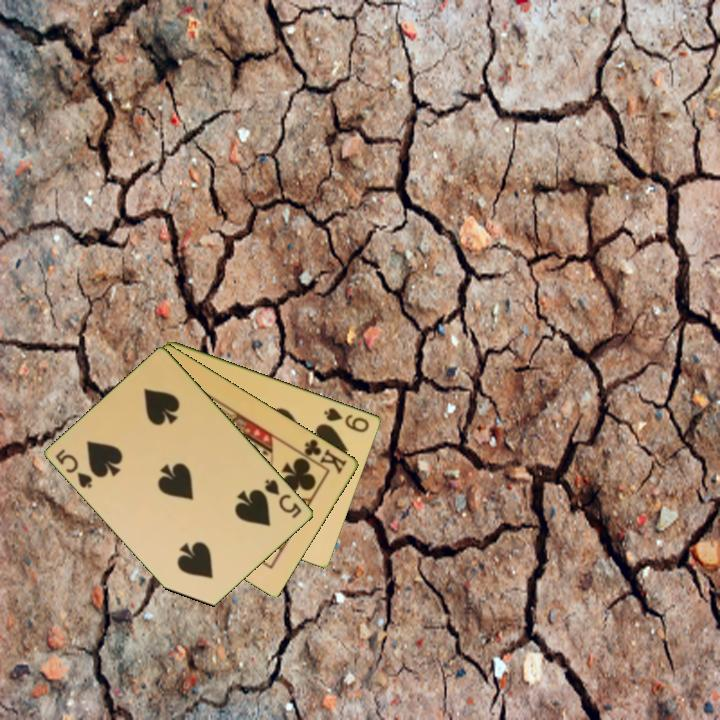5s: (261, 475, 305, 521), (52, 446, 96, 491)
9s: (320, 404, 373, 435)
Kc: (295, 435, 350, 477)
